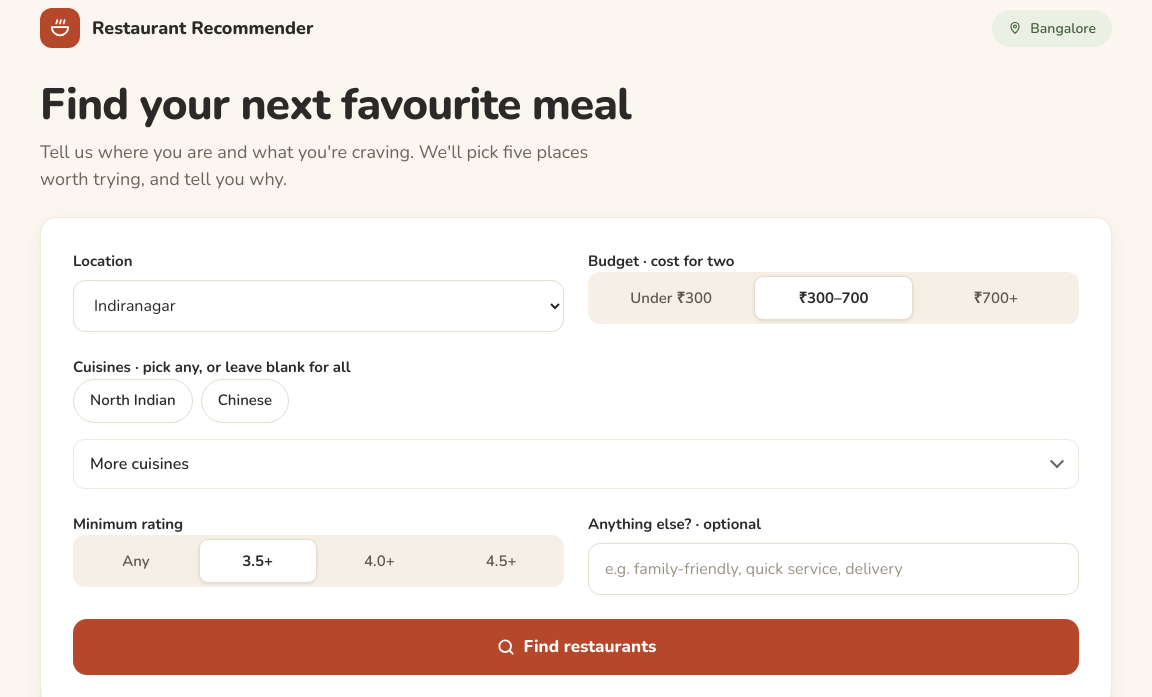
Test case: Recommender › shows a banner and hides explanations when degraded
Click the button "Find restaurants" at coordinates (576, 647), box [73, 619, 1079, 675]
(page scrolled)
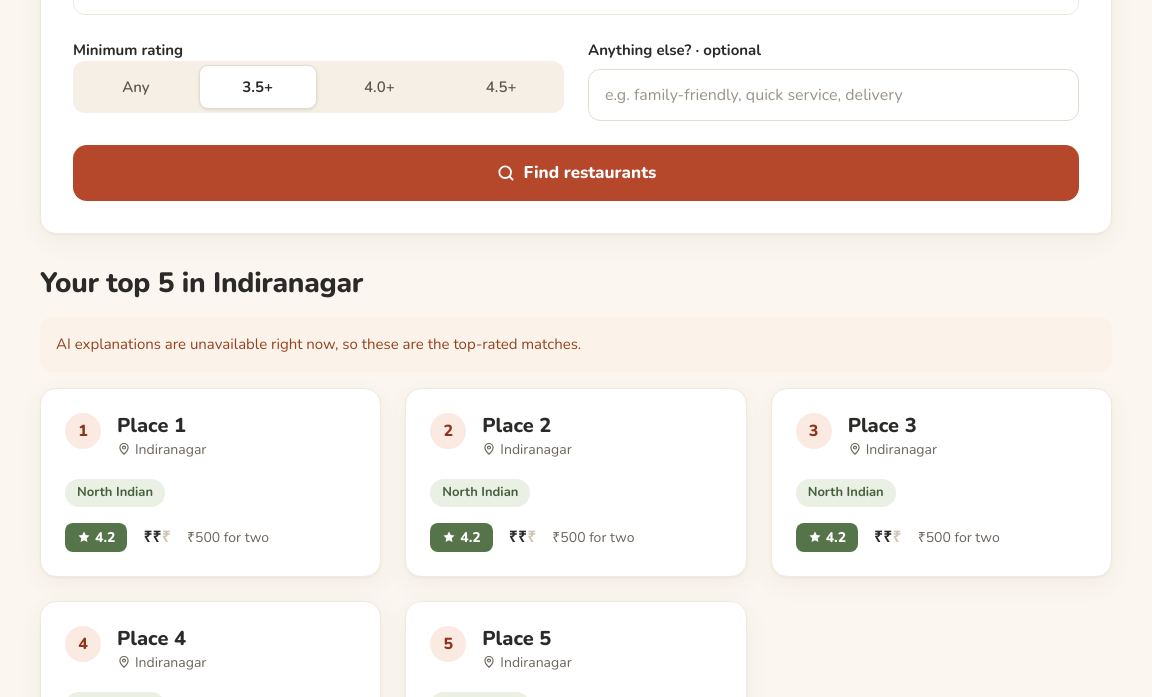
Check: the text "AI explanations are unavailable right now, so these are the top-rated matches." is shown, box [40, 317, 1112, 372]
